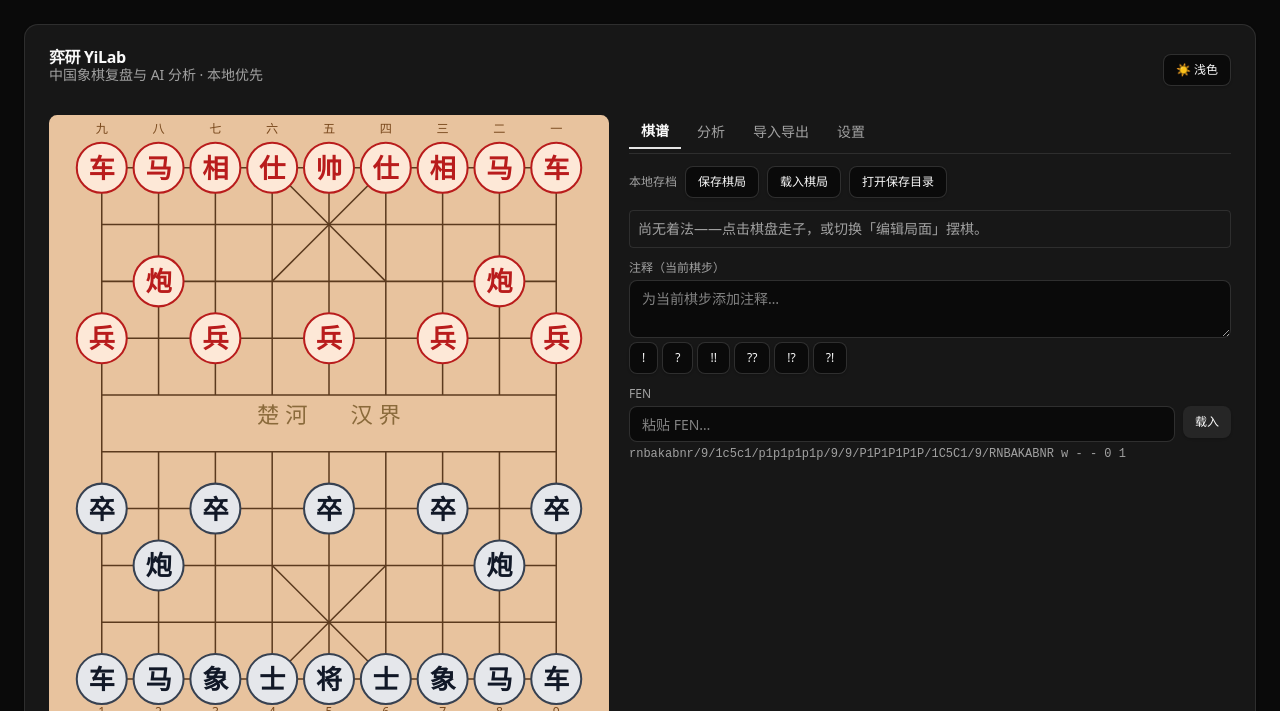
Scenario: App › switches between feature tabs
Expected: the text "帅" is shown, [316,150,342,186]
Expected: the text "尚无着法——点击棋盘走子，或切换「编辑局面」摆棋。" is shown, [638,219,988,238]
Click the tab with test id "tab-analysis" at (711, 132), box [685,115,737,149]
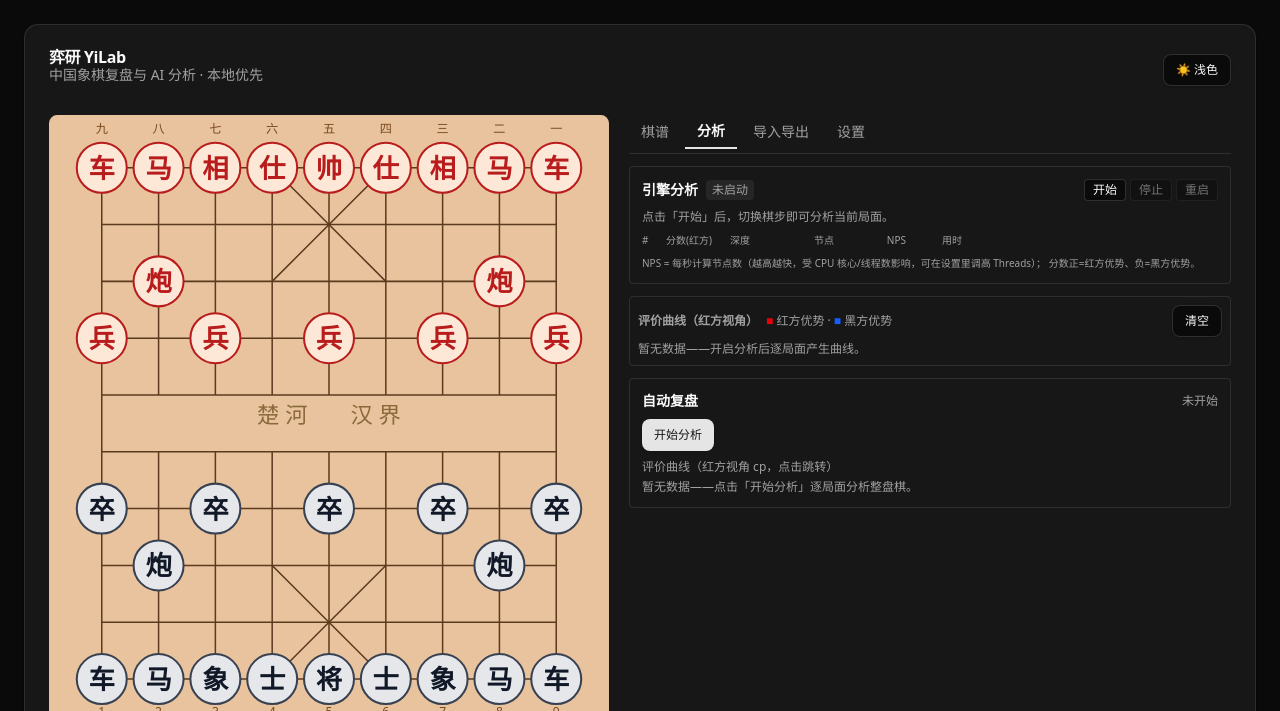
Expected: the element with test id "analysis-panel" is shown, [629,166,1231,284]
Click the tab with test id "tab-io" at (781, 132), box [741,115,821,149]
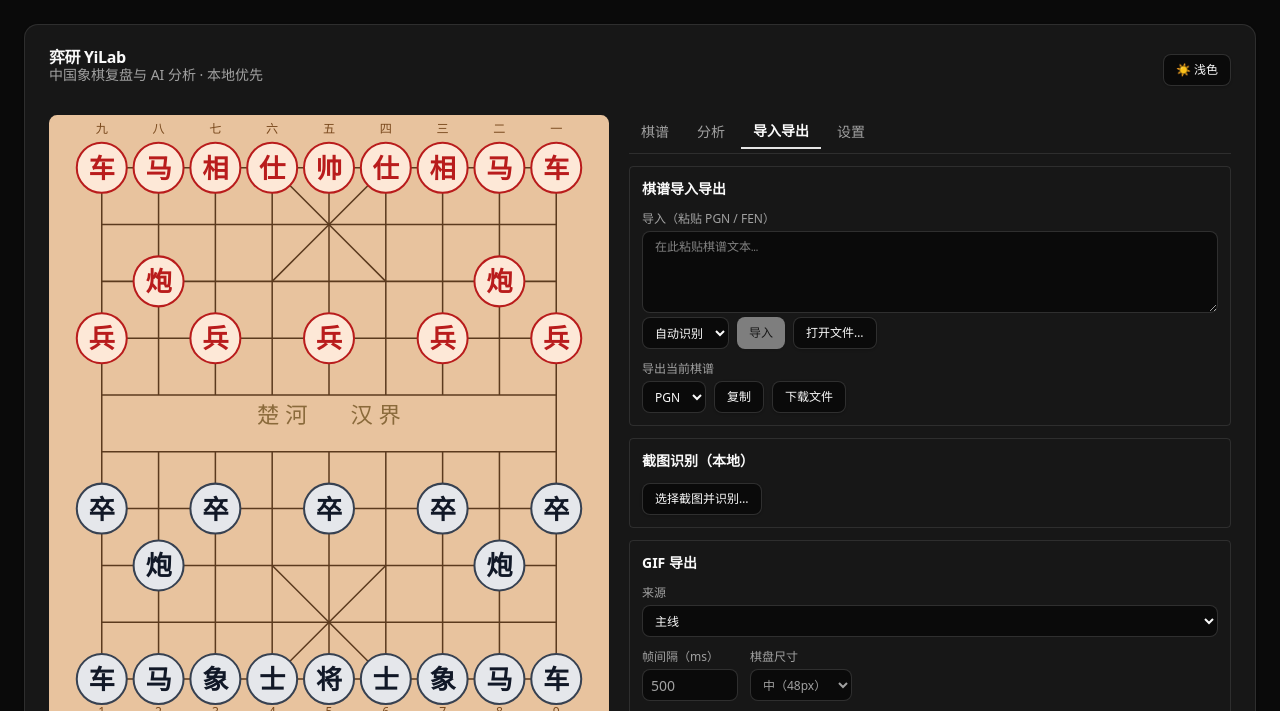
Expected: the element with test id "game-codec" is shown, [629,166,1231,426]
Expected: the element with test id "ocr-panel" is shown, [629,438,1231,528]
Click the tab with test id "tab-settings" at (851, 132), box [825,115,877,149]
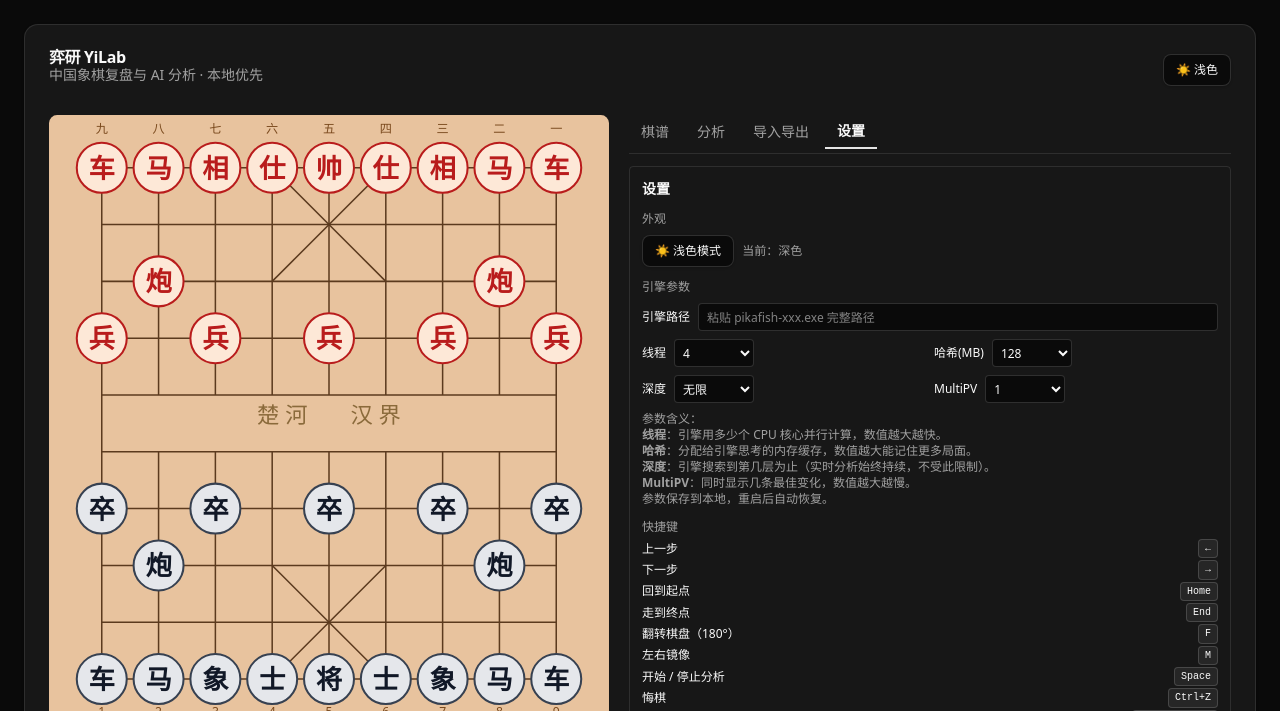
Click the tab with test id "tab-game" at (655, 132), box [629,115,681,149]
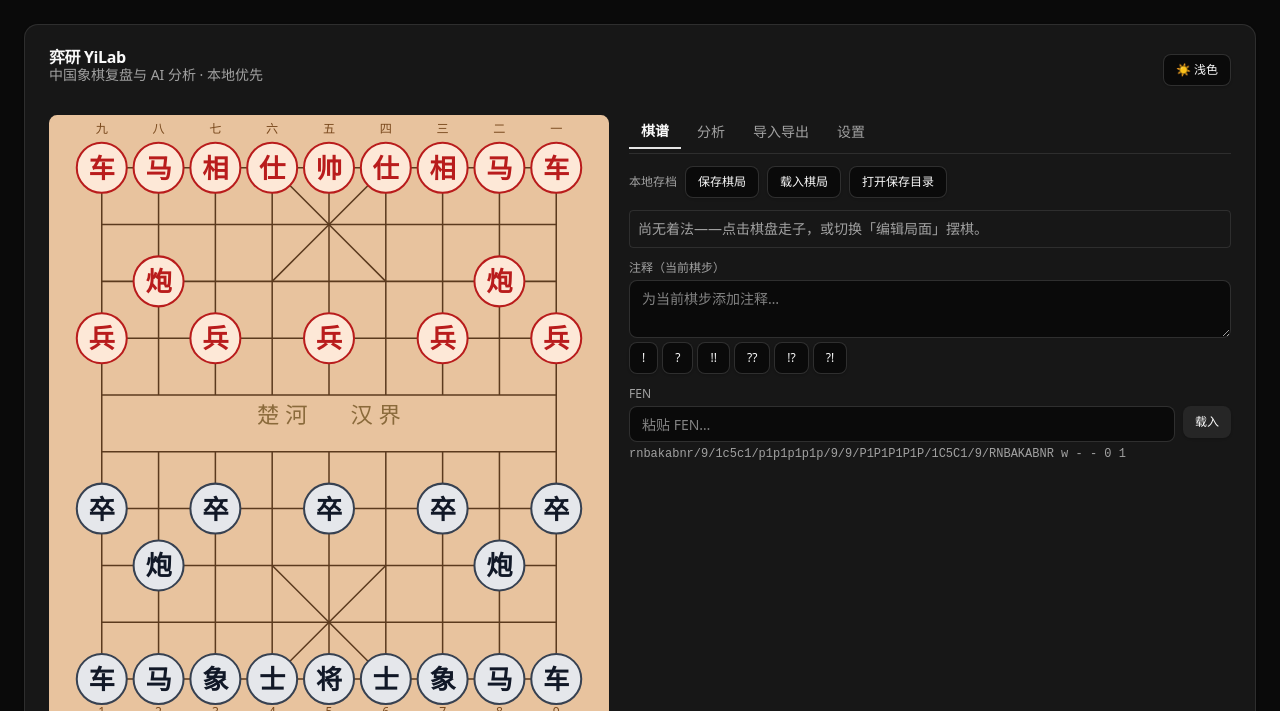
Expected: the text "尚无着法——点击棋盘走子，或切换「编辑局面」摆棋。" is shown, [638,219,988,238]
